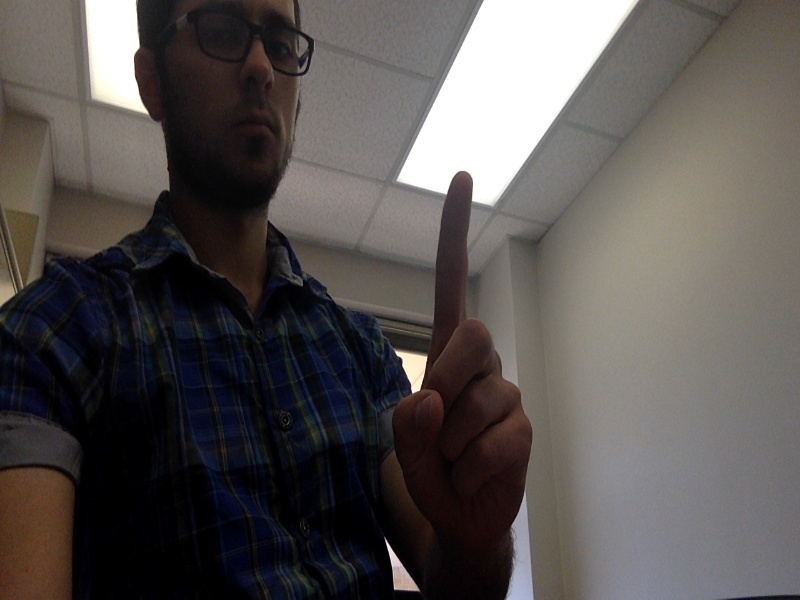1-hand: (391, 170, 538, 555)
